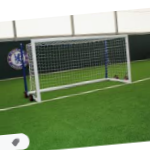goals: (26, 33, 135, 103)
